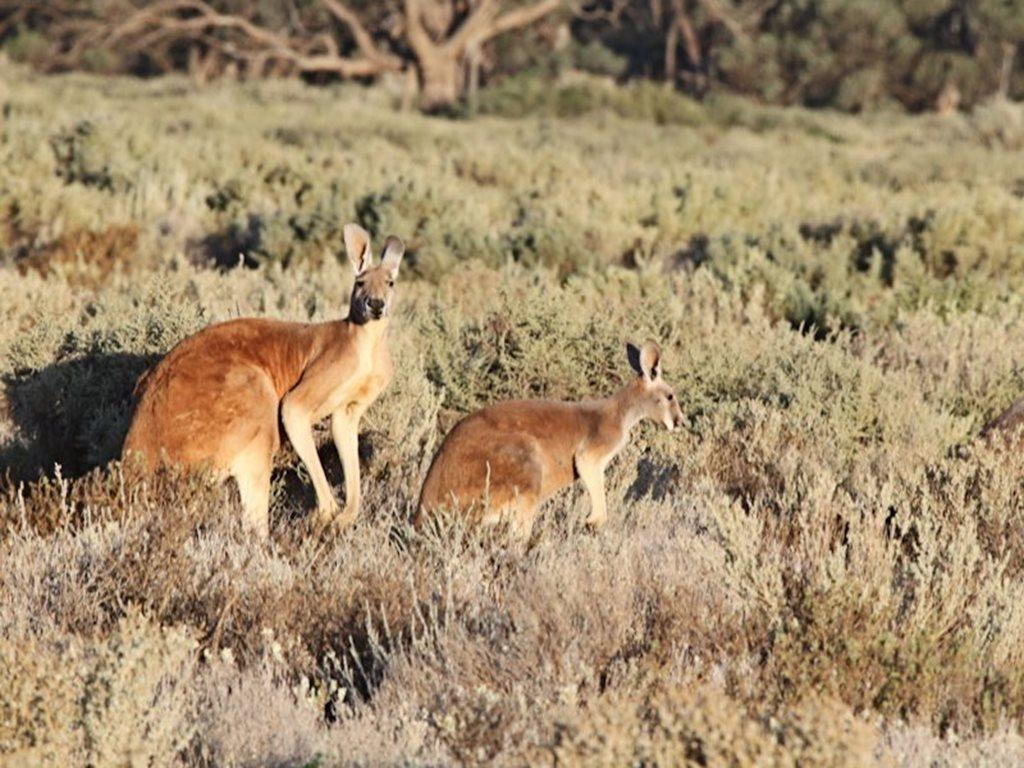Red kangaroo: (98, 225, 411, 544), (404, 336, 684, 561)
